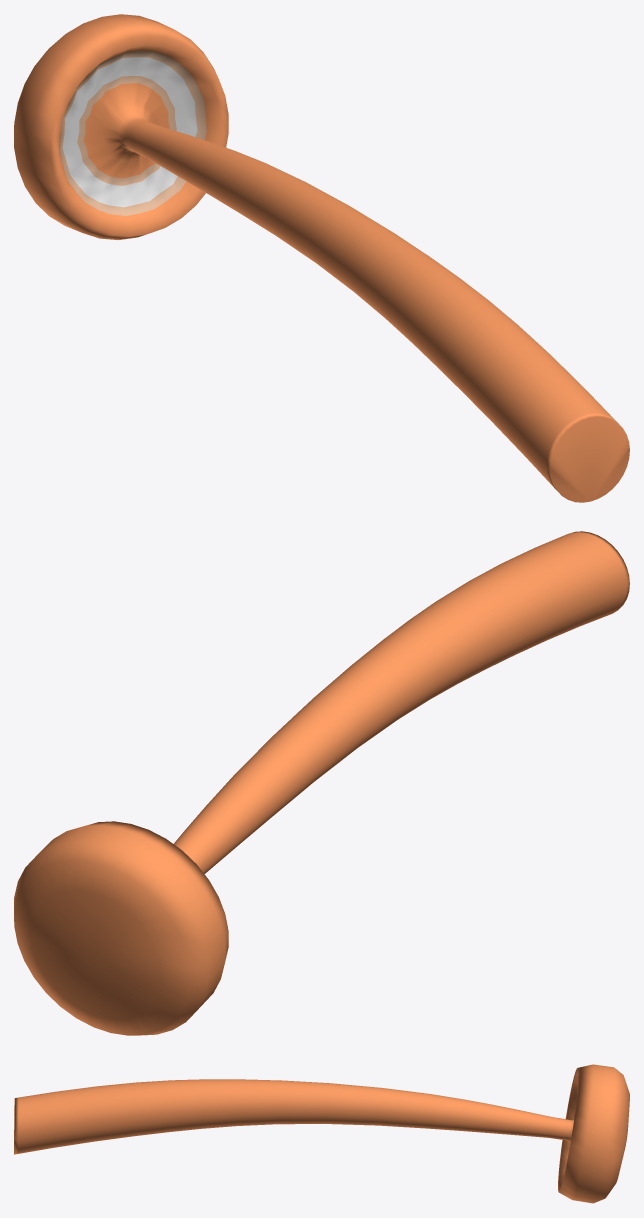
File: Thin Tall Shroom.fbx
The picture shows the model from 3 angles, top to bottom: view 1: azimuth 30°, elevation 25°; view 2: azimuth 150°, elevation 25°; view 3: azimuth 270°, elevation 25°; orthographic projection. The views are drawn at different scales.
Parts seen in each view (by area): view 1: Cylinder; view 2: Cylinder; view 3: Cylinder.
Part boxes in pixels (x1,y1,x2,y2): Cylinder: (14, 14, 629, 502); Cylinder: (14, 531, 629, 1035); Cylinder: (14, 1064, 629, 1203).
Bounding box in the file's own units: 395 × 399 × 1766.
